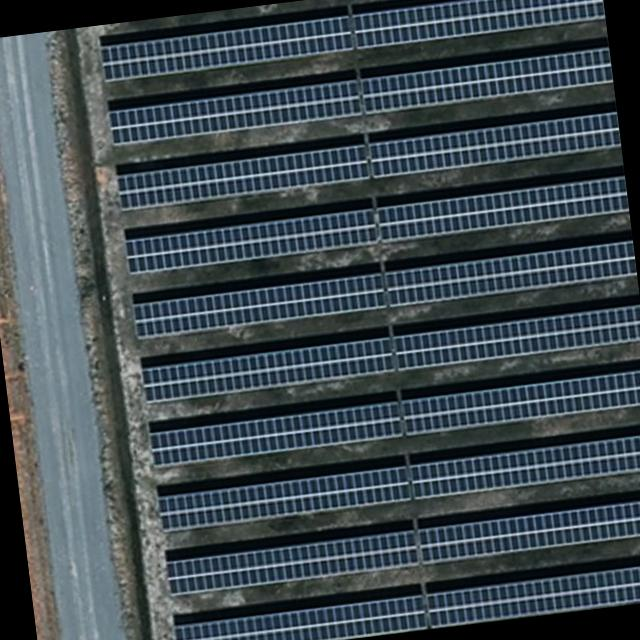solar: (130, 269, 388, 341), (100, 12, 356, 84), (115, 142, 373, 213), (106, 76, 364, 146), (140, 335, 398, 405), (148, 398, 405, 468), (165, 526, 421, 596), (158, 462, 414, 532), (374, 174, 630, 243), (366, 110, 622, 178), (358, 46, 614, 114), (124, 206, 380, 274), (384, 240, 637, 308), (394, 303, 640, 371), (401, 367, 640, 436), (409, 432, 640, 499), (418, 496, 640, 564), (424, 560, 640, 628), (350, 0, 605, 50), (173, 592, 429, 640)
